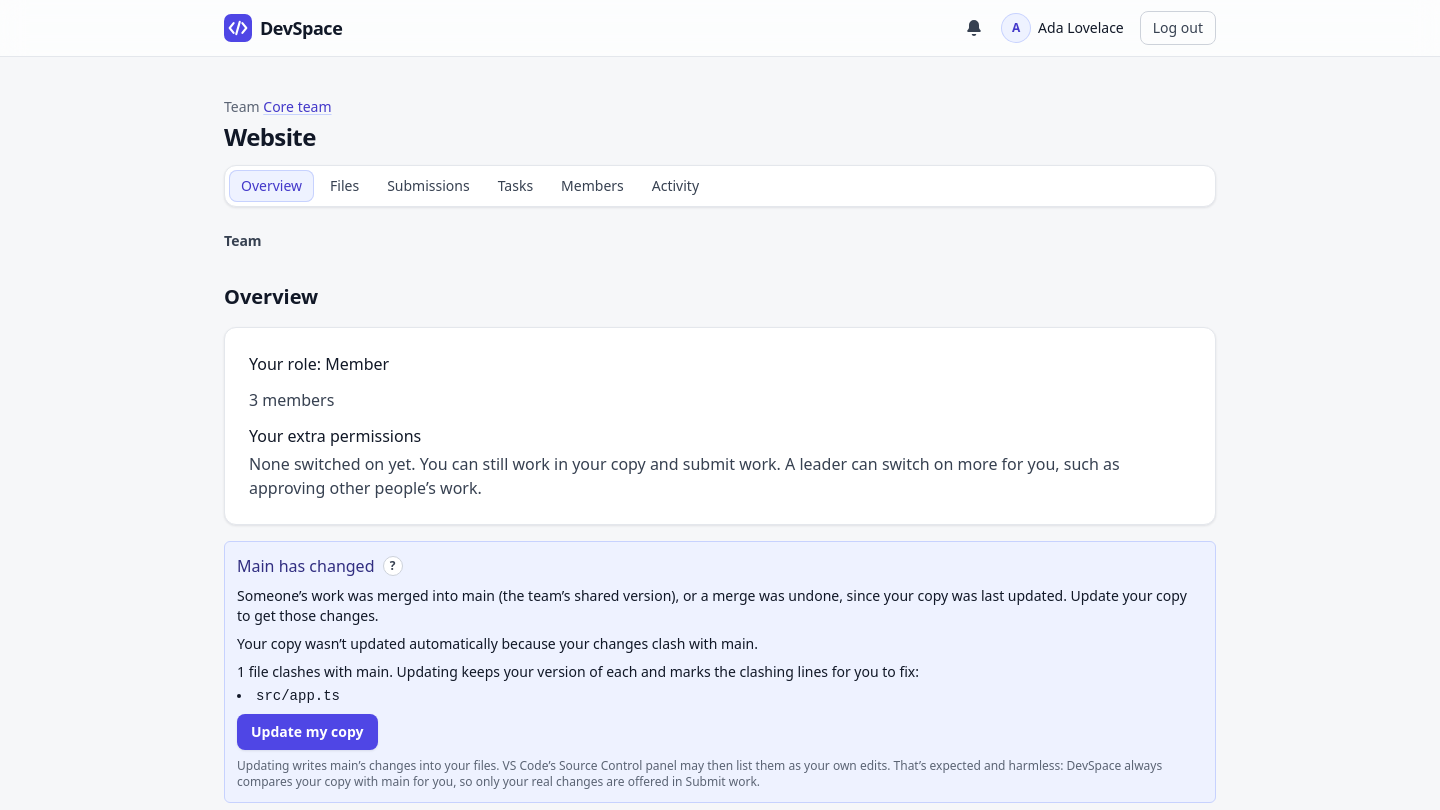
Scenario: Update my copy on the overview › previews clashes, updates, and then lists files with conflict markers
Expected: the text "1 file clashes with main" is shown, [237, 662, 919, 681]
Expected: the element "Main has changed" shows "wasn’t updated automatically", [237, 634, 758, 653]
Click the button "Update my copy": click(307, 732) [237, 714, 378, 750]
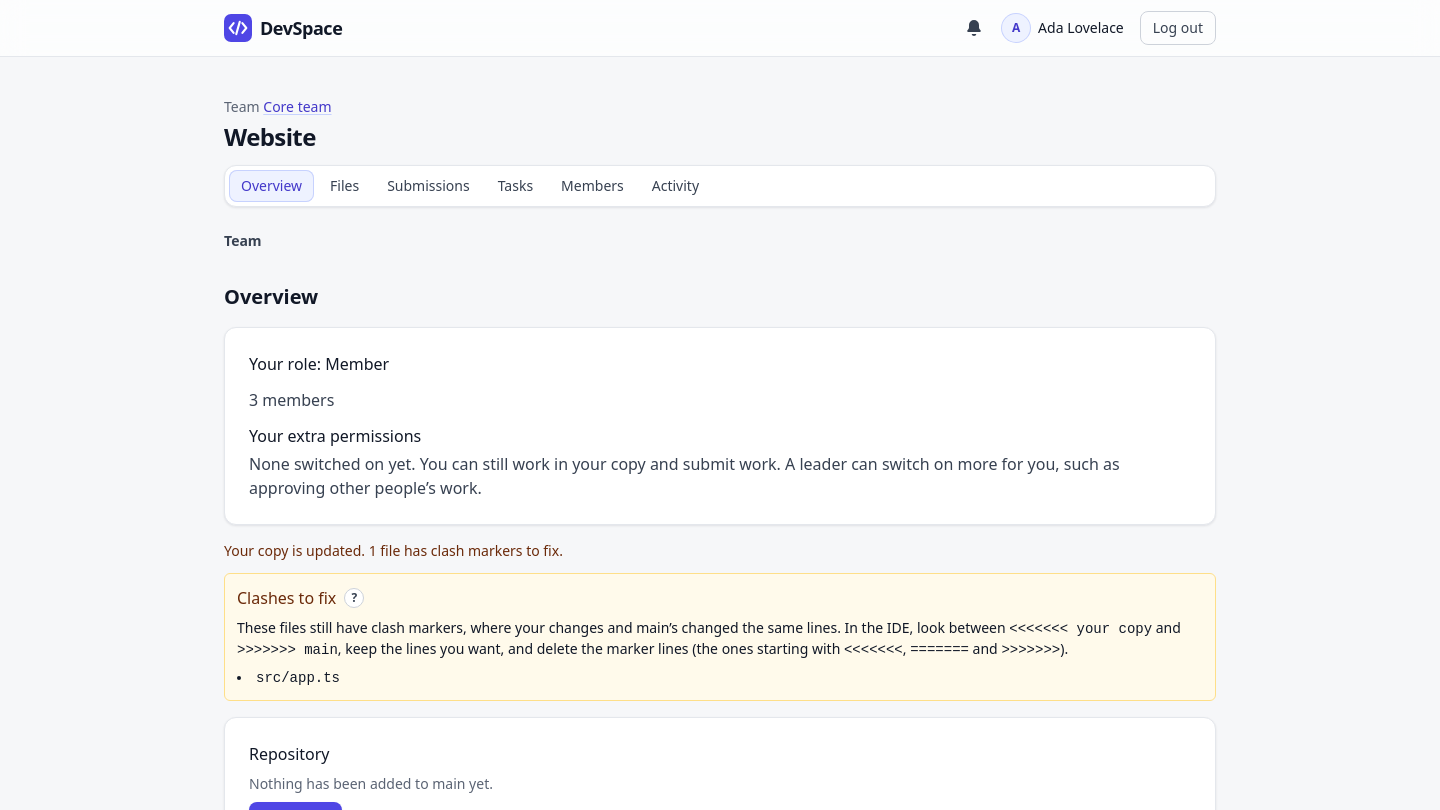
Expected: the list items read "src/app.ts", in this order, [256, 670, 340, 686]
Expected: the message shows "1 file has clash markers to fix", [224, 541, 563, 560]
Expected: the heading "Main has changed" is gone
